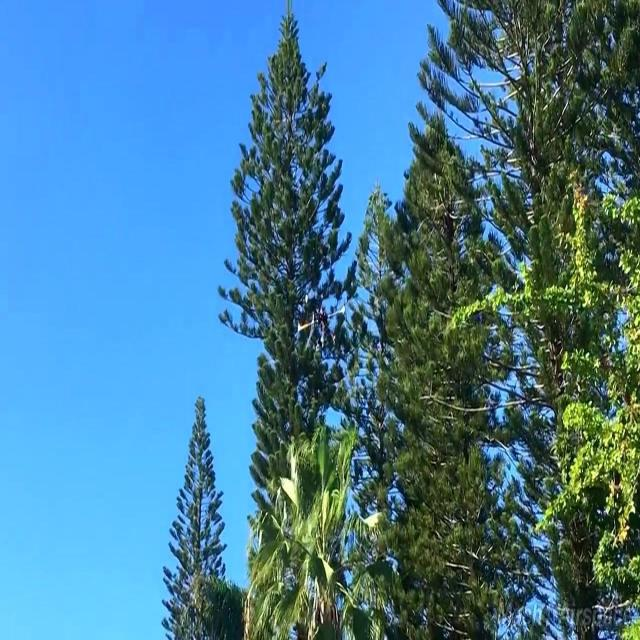UAV: (297, 308, 345, 351)
